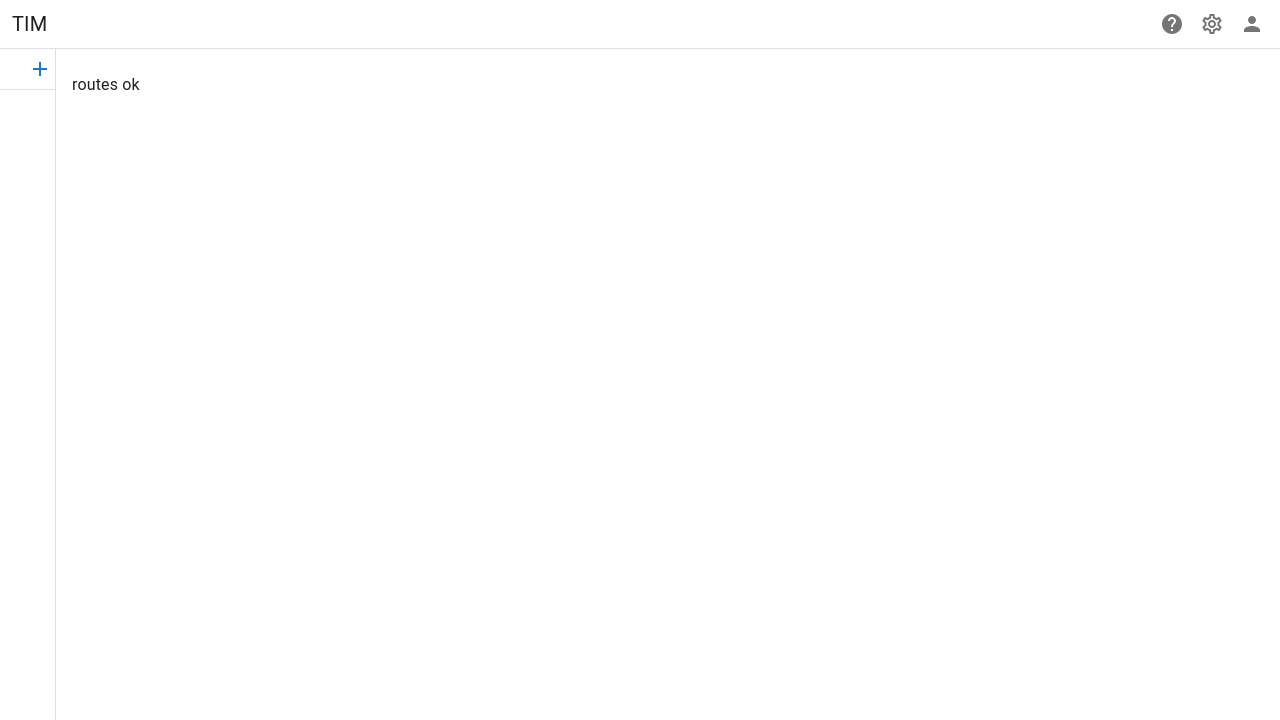
Test: Settings › Appearance › opens a sub-menu of Light, Dark and System with System checked by default
This screenshot has width=1280, height=720.
Expected: the text "routes ok" is shown, [72,75,140,94]
Click the button named "Settings": (1212, 24) [1192,4,1232,44]
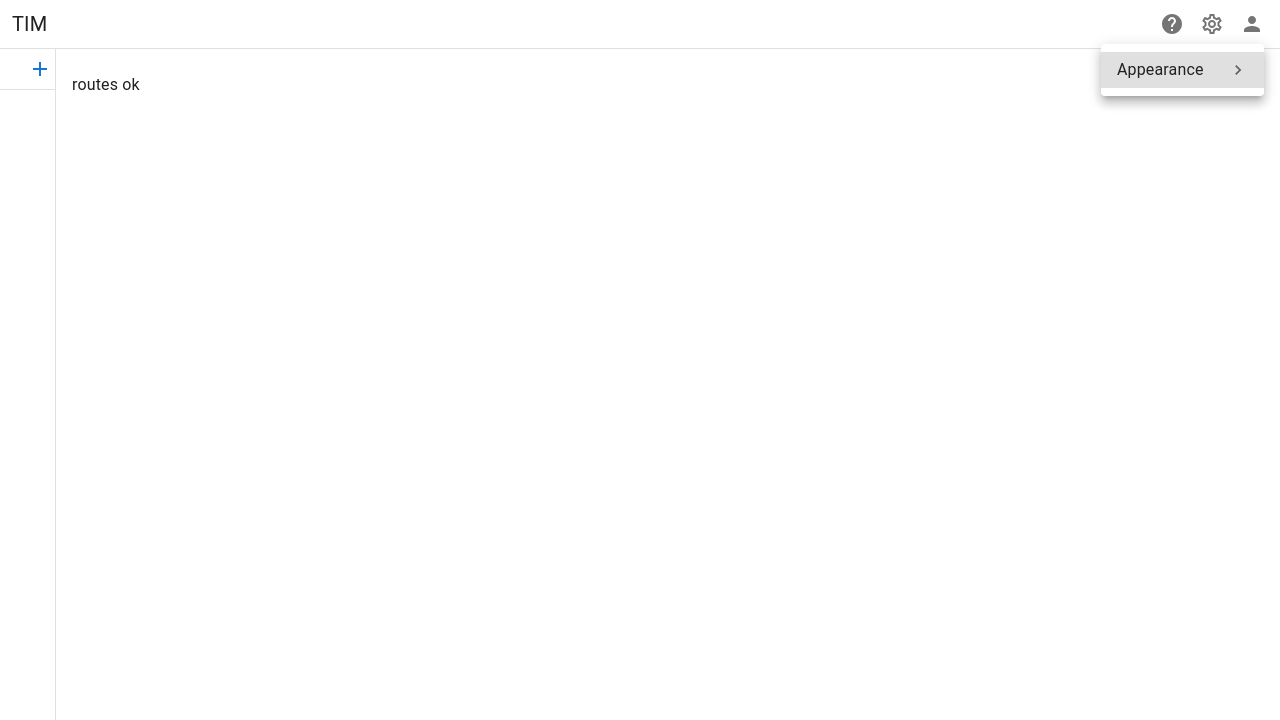
Click the menu item "Appearance": (1182, 70) [1101,52,1264,88]
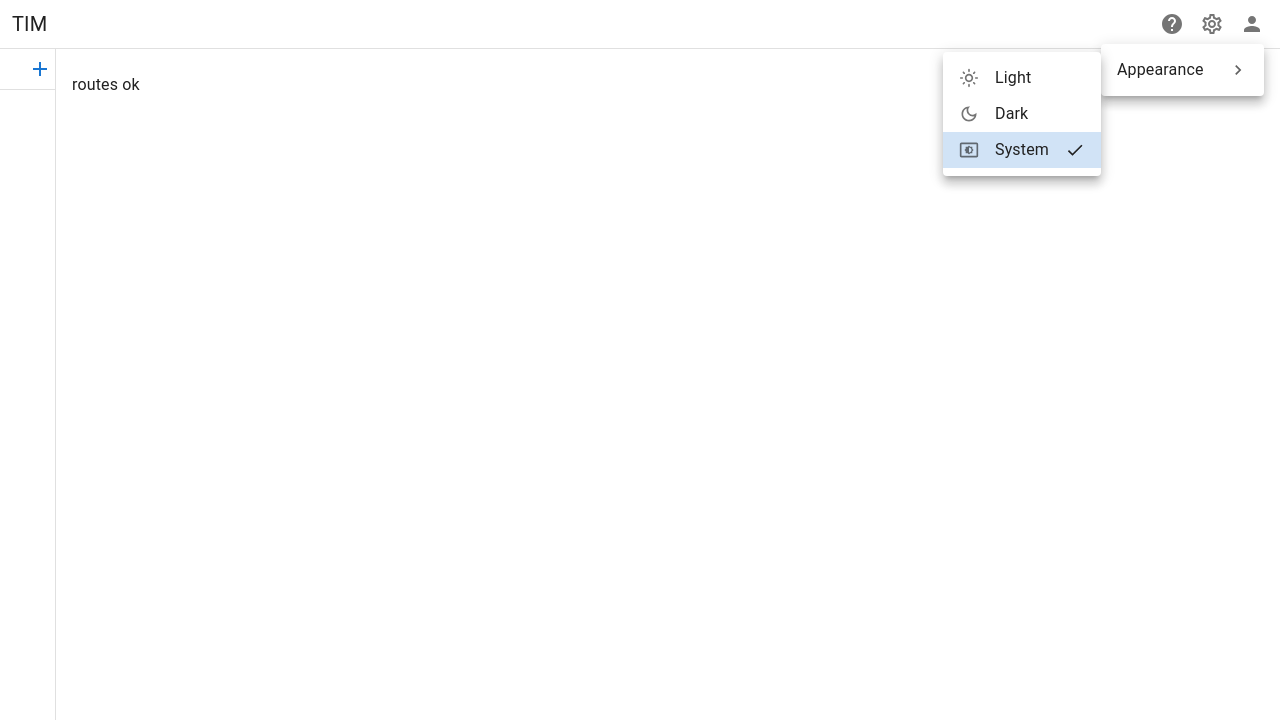
Now the menu item "Appearance" is expanded, box [1117,60,1248,80]
